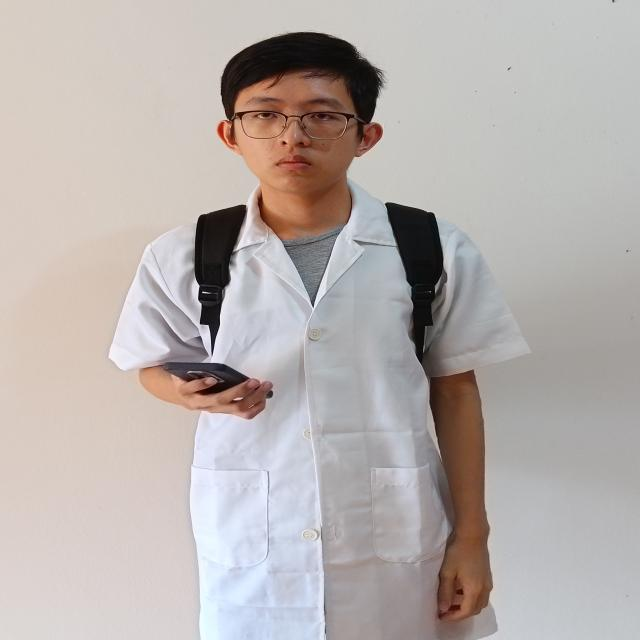person_with_labcoat: (110, 33, 528, 640)
